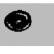correct: (1, 7, 36, 34)
